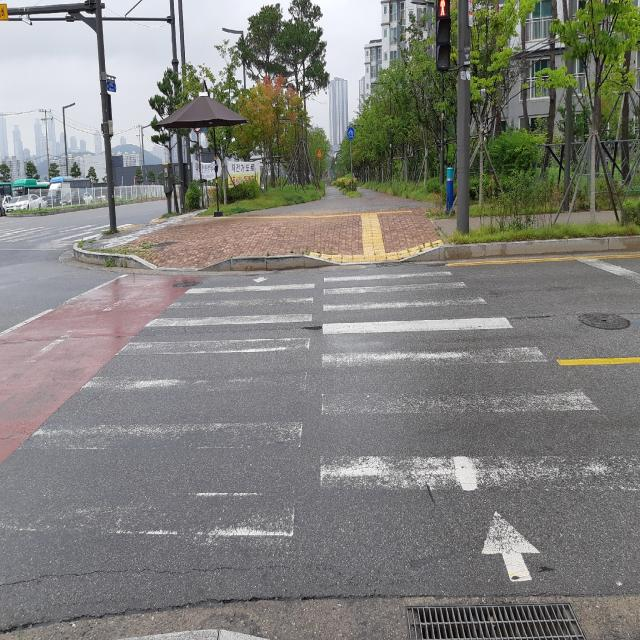빨간불: (434, 0, 452, 72)
횡단보도: (0, 264, 640, 600)
